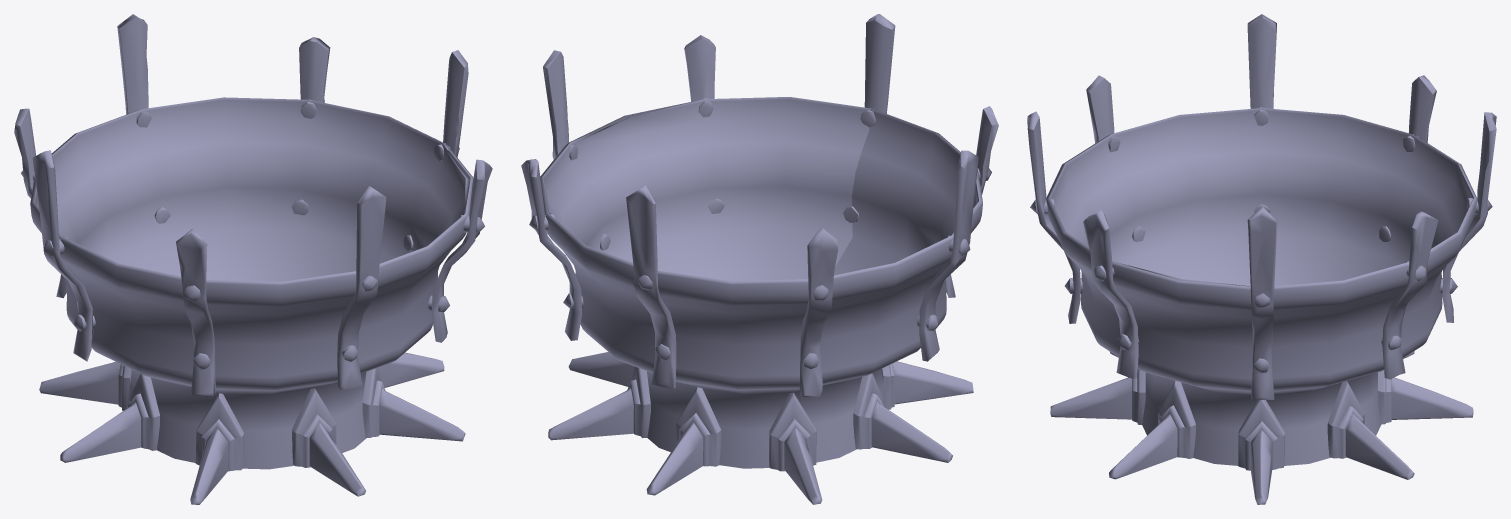
Rendered from Brazier_02.fbx.
3 renders of one model, left to right at view 1: azimuth 30°, elevation 25°; view 2: azimuth 150°, elevation 25°; view 3: azimuth 270°, elevation 25°, orthographic. The views are drawn at different scales.
Visible parts, largest first — view 1: Brazier_02_LOD0; view 2: Brazier_02_LOD0; view 3: Brazier_02_LOD0.
Boxes of the visible parts, x1=… form: Brazier_02_LOD0: x1=14, y1=14, x2=492, y2=504; Brazier_02_LOD0: x1=521, y1=14, x2=998, y2=504; Brazier_02_LOD0: x1=1027, y1=14, x2=1496, y2=504.
Size of what is drawn, in the model's own units: 110 by 78.24 by 109.
